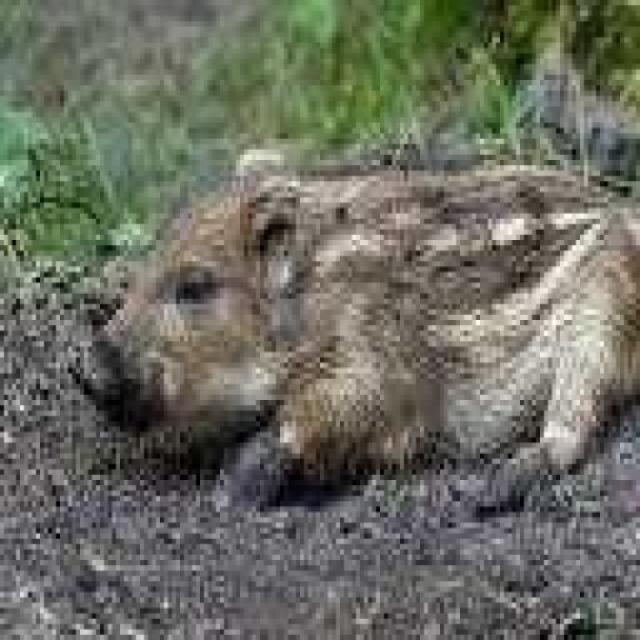pig: (75, 156, 640, 541)
